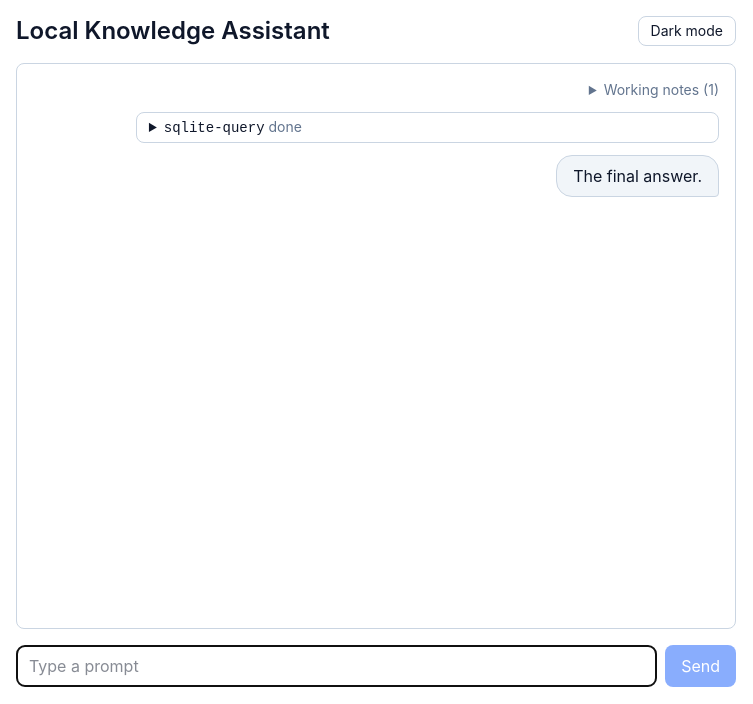
it: App › shows text from before a tool call as collapsed working notes, not as part of the answer
expect the element named "Assistant" reads "The final answer.": met, box 573,166 -> 702,186
expect the element named "Assistant" does not show "query the database": met, box 556,155 -> 719,197
Click the heading "Working notes (1)".
click(654, 90)  # box 589,80 -> 719,100
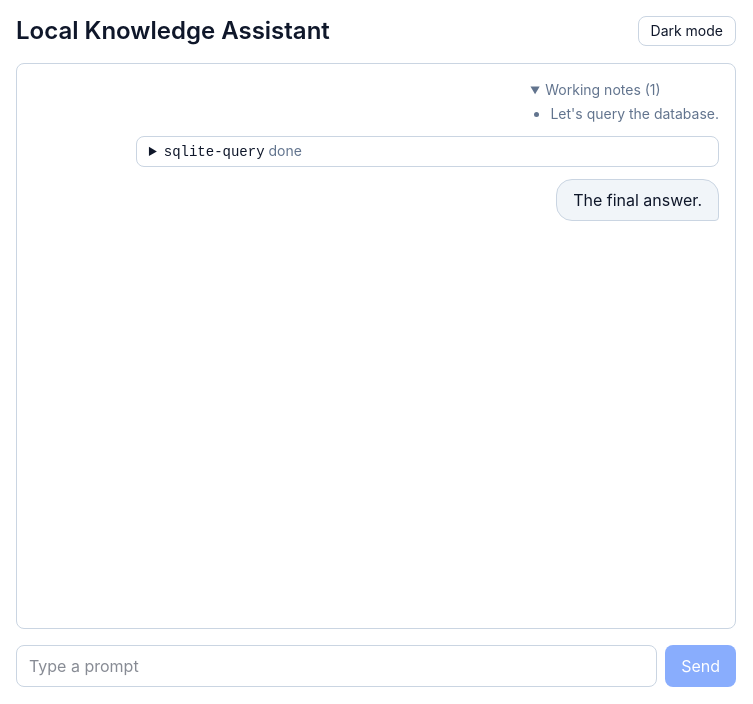
expect the list item "Let's query the database." is shown: met, box 550,104 -> 719,124
